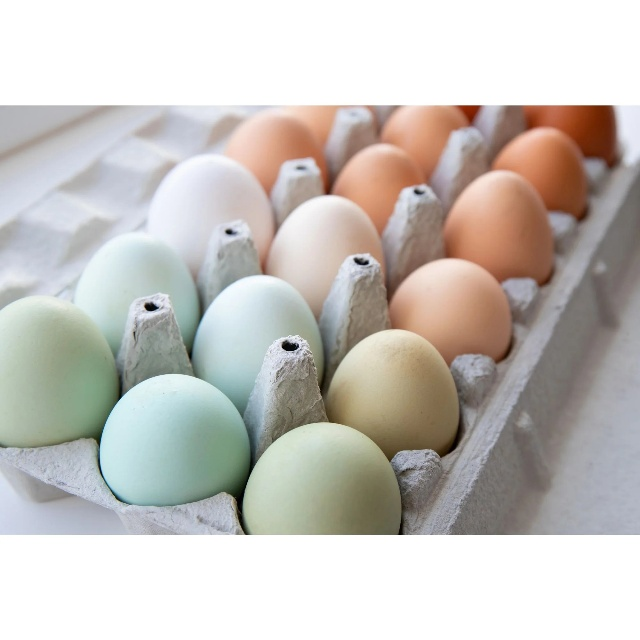trung_ga: (141, 153, 276, 284), (258, 191, 391, 320), (437, 167, 559, 287), (384, 257, 515, 366), (489, 123, 595, 226), (220, 110, 333, 192), (328, 142, 423, 234)
